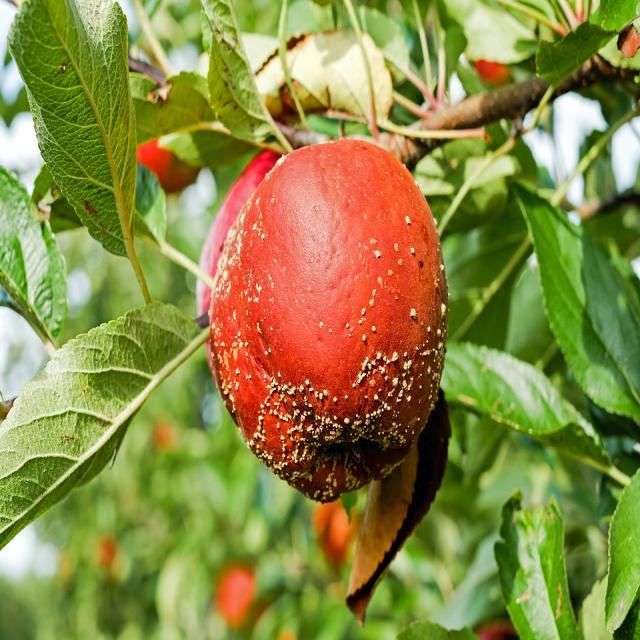apple: (205, 139, 457, 524)
